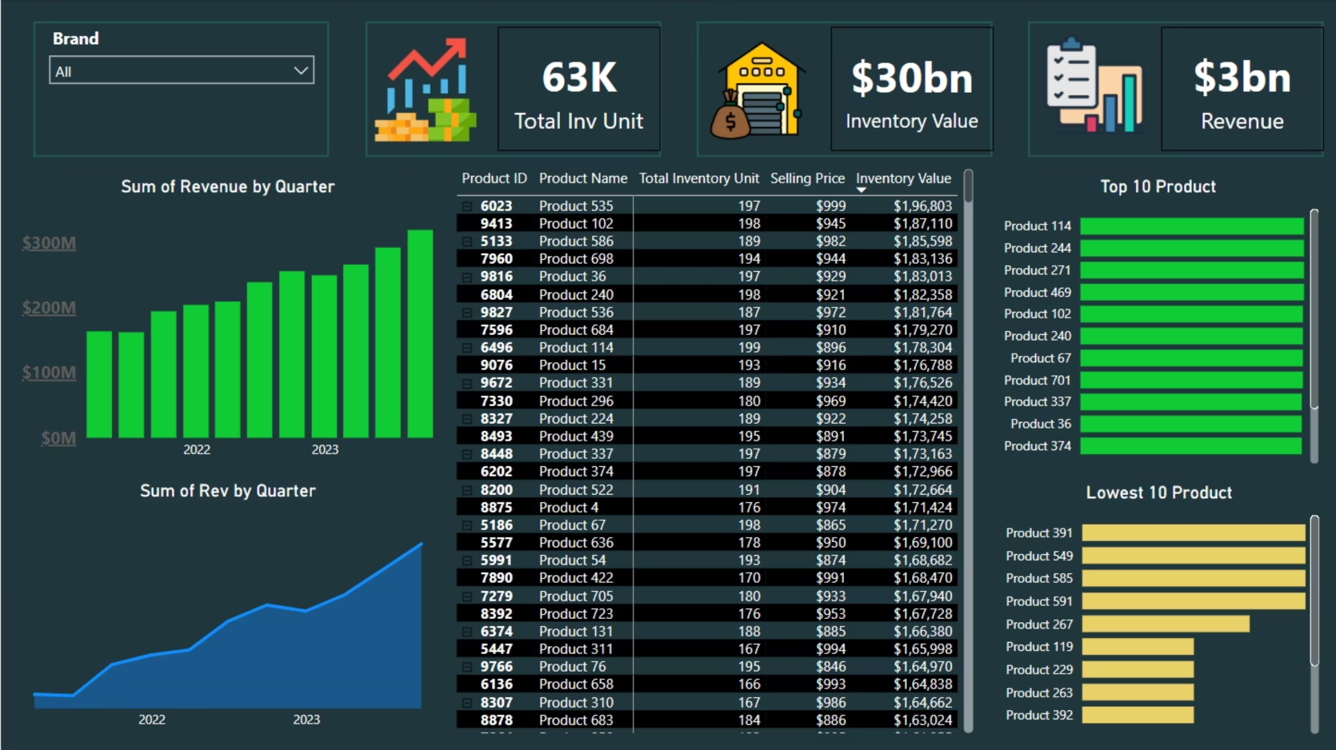

This screenshot's page, from the dashboard's own definition file:
{"tool":"powerbi","page":{"name":"DashBoard","canvas":[1280,720],"ordinal":0},"visuals":[{"type":"pivotTable","fields":{"Rows":["Master.Product ID","Master.Product Name"],"Values":["Calender.Total Inventory Unit","Calender.Total SP Price","Calender.Inventory Value"]},"box":[431.4,157.3,505,551.1],"z":0},{"type":"clusteredColumnChart","title":"Sum of Revenue by Quarter","fields":{"Category":["Calender.Quarter"],"Y":["Sum(Sales.Rev)"]},"box":[14.4,168.8,406.9,281.3],"z":1000},{"type":"lineChart","fields":{"Category":["Calender.Quarter"],"Y":["Sum(Sales.Rev)"]},"box":[14.4,460.2,406.9,248.2],"z":2000},{"type":"clusteredBarChart","title":"Top 10 Product","fields":{"Category":["Master.Product Name"],"Y":["Calender.Total Inventory Unit"]},"box":[950.8,168.8,317.4,281.3],"z":3000},{"type":"clusteredBarChart","title":"Lowest 10 Product","fields":{"Category":["Master.Product Name"],"Y":["Calender.Total Inventory Unit"]},"box":[952.2,461.7,316,246.7],"z":4000},{"type":"shape","box":[31.4,20.5,283.5,130.3],"z":5000},{"type":"shape","box":[349.1,20.5,283.5,130.3],"z":6000},{"type":"shape","box":[666.8,20.5,283.5,130.3],"z":7000},{"type":"shape","box":[984.5,20.5,283.5,130.3],"z":8000},{"type":"card","fields":{"Values":["Calender.Total Inventory Unit"]},"box":[476.5,25.3,155.6,119.4],"z":9000},{"type":"card","fields":{"Values":["Calender.Inventory Value"]},"box":[795,25.3,155.6,119.4],"z":10000},{"type":"card","fields":{"Values":["Sum(Sales.Rev)"]},"box":[1112.3,25.3,155.6,119.4],"z":11000},{"type":"image","box":[666.6,31.7,118.3,109.6],"z":12000},{"type":"image","box":[985.4,20.2,127,121.2],"z":13000},{"type":"image","box":[348.7,26.5,119.4,119.4],"z":14000},{"type":"slicer","fields":{"Values":["Master.Brand"]},"box":[36.1,20.2,274.1,125.5],"z":15000}]}

Visuals, with their boxes in screenshot pixels (x1, y1, x2, y2), scaled from the page's 1280x720 canvas onto the 1336x750 screenshot:
pivotTable - Master.Product ID x Master.Product Name: l=450, t=164, r=977, b=738
"Sum of Revenue by Quarter" clusteredColumnChart: l=15, t=176, r=440, b=469
lineChart - Calender.Quarter x Sum(Sales.Rev): l=15, t=479, r=440, b=738
"Top 10 Product" clusteredBarChart: l=992, t=176, r=1324, b=469
"Lowest 10 Product" clusteredBarChart: l=994, t=481, r=1324, b=738
shape: l=33, t=21, r=329, b=157
shape: l=364, t=21, r=660, b=157
shape: l=696, t=21, r=992, b=157
shape: l=1028, t=21, r=1323, b=157
card - Calender.Total Inventory Unit: l=497, t=26, r=660, b=151
card - Calender.Inventory Value: l=830, t=26, r=992, b=151
card - Sum(Sales.Rev): l=1161, t=26, r=1323, b=151
image: l=696, t=33, r=819, b=147
image: l=1029, t=21, r=1161, b=147
image: l=364, t=28, r=489, b=152
slicer - Master.Brand: l=38, t=21, r=324, b=152
